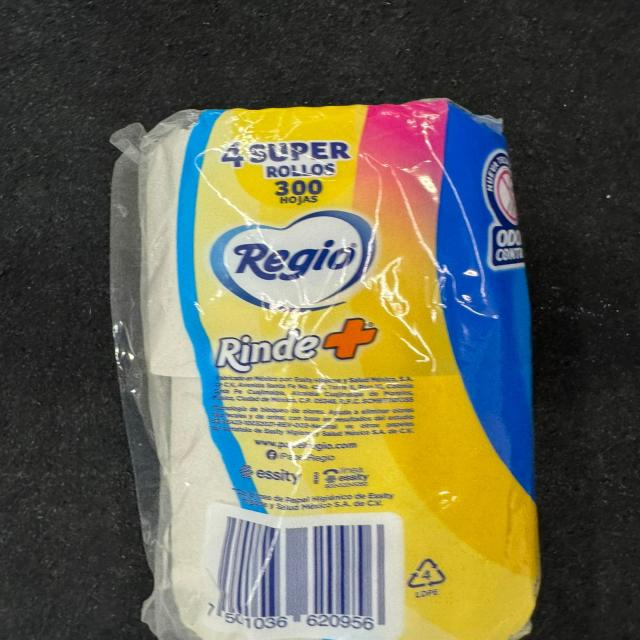Papel Regio Rinde 4pz: (94, 94, 558, 640)
